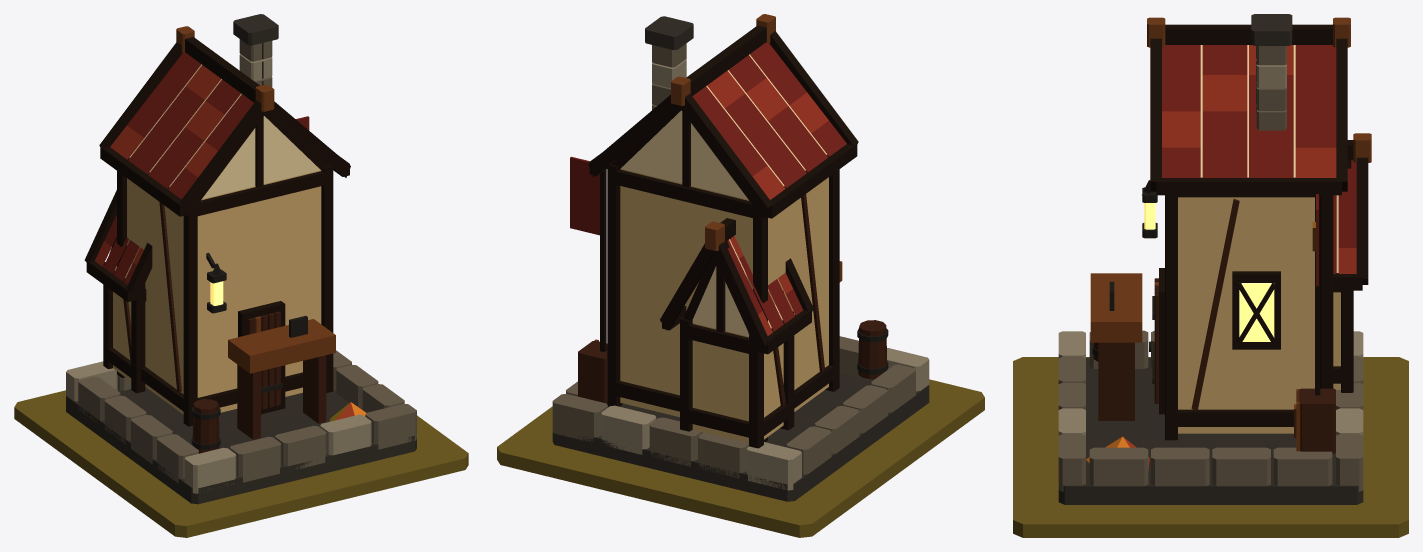
The model's file is butchery_t6.glb.
3 views of the same model, side by side, from view 1: azimuth 30°, elevation 25°; view 2: azimuth 150°, elevation 25°; view 3: azimuth 270°, elevation 25° (orthographic). The views are drawn at different scales.
Parts seen in each view (by area): view 1: MMR | butchery | T06 Architecture.001, MMR | butchery | Tier 06 Ground.001; view 2: MMR | butchery | T06 Architecture.001, MMR | butchery | Tier 06 Ground.001, MMR | butchery | T06 Banner Flag 1.001; view 3: MMR | butchery | T06 Architecture.001, MMR | butchery | Tier 06 Ground.001.
Boxes of the visible parts, box(x1,y1,x2,y2) form: MMR | butchery | T06 Architecture.001: box(66, 14, 416, 504); MMR | butchery | Tier 06 Ground.001: box(14, 390, 468, 537); MMR | butchery | T06 Architecture.001: box(552, 14, 929, 501); MMR | butchery | Tier 06 Ground.001: box(497, 379, 984, 537); MMR | butchery | T06 Banner Flag 1.001: box(570, 156, 599, 235); MMR | butchery | T06 Architecture.001: box(1058, 14, 1371, 504); MMR | butchery | Tier 06 Ground.001: box(1013, 357, 1408, 537).
Bounding box in the file's own units: 1.3 × 1.65 × 1.3.
2 materials, 1 textured.
